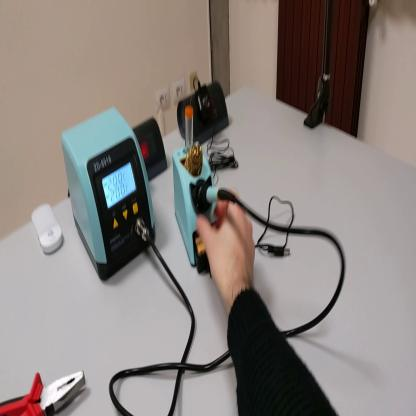hand: (196, 200, 257, 299)
pliers: (2, 366, 87, 414)
socket: (179, 78, 229, 149), (134, 113, 170, 184)
welder base: (174, 106, 220, 276)
welder probe tip: (194, 175, 238, 210)
welder station: (60, 106, 157, 289)
